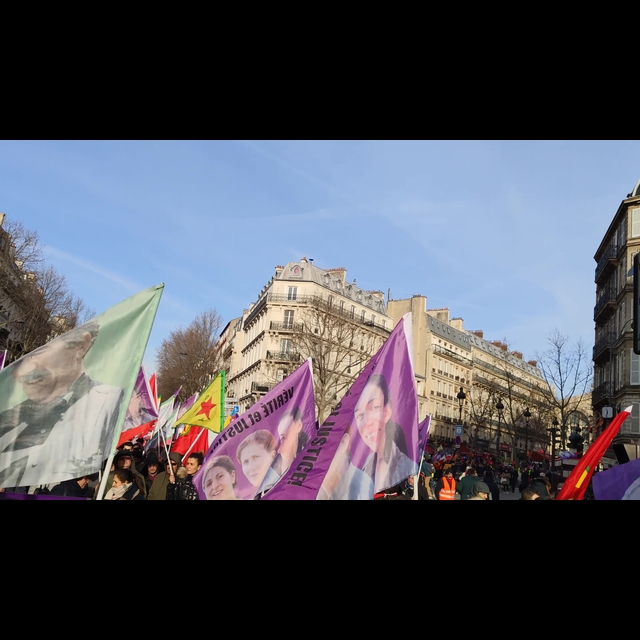YPG: (169, 367, 224, 433)
